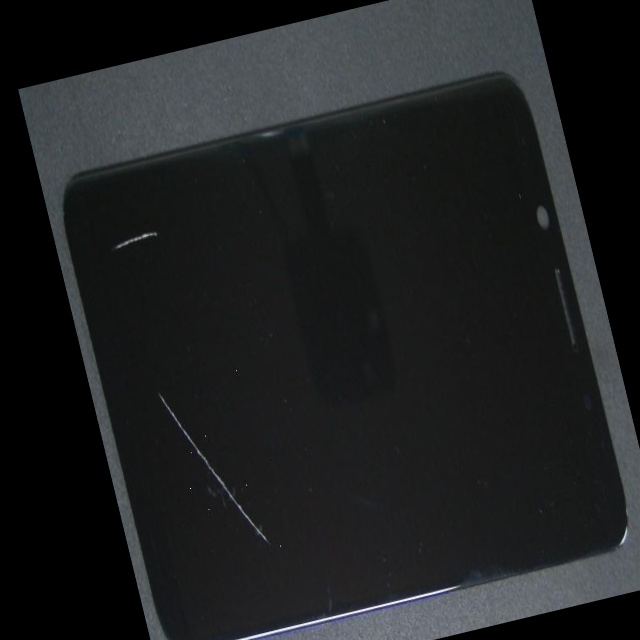scratch: (80, 191, 216, 540), (60, 165, 148, 357)
